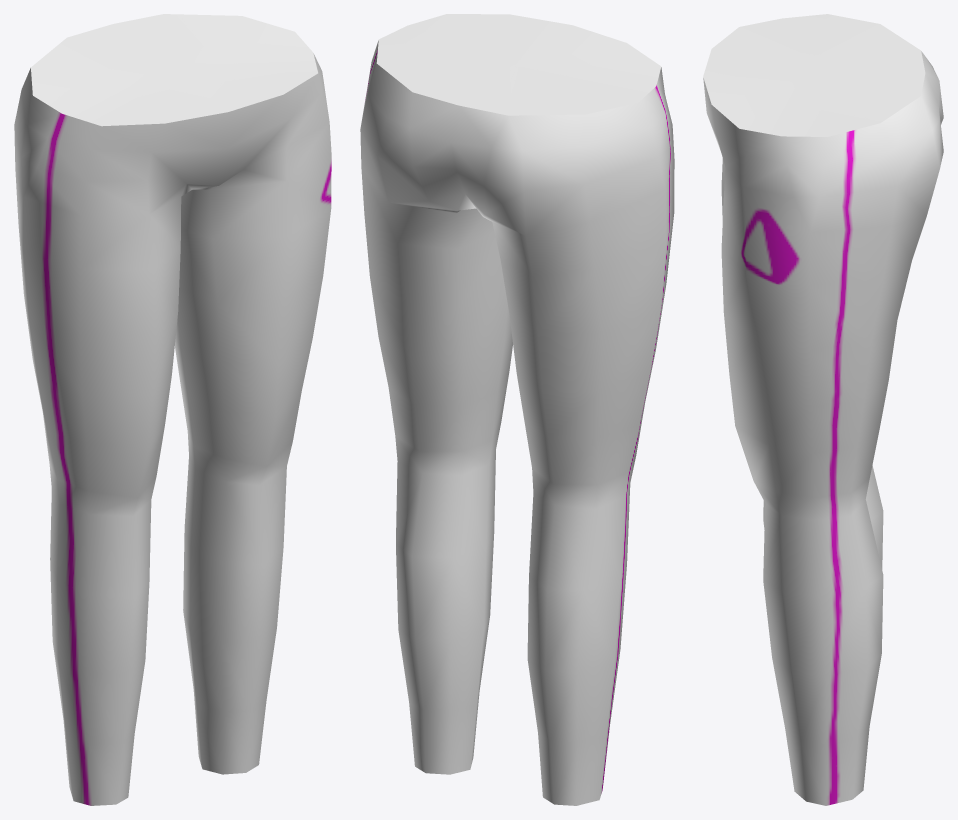
The model's file is Lengg_B.glb.
3 renders of one model, left to right at view 1: azimuth 30°, elevation 25°; view 2: azimuth 150°, elevation 25°; view 3: azimuth 270°, elevation 25°, orthographic. The views are drawn at different scales.
Visible parts, largest first — view 1: Lengg_B; view 2: Lengg_B; view 3: Lengg_B.
Part boxes in pixels (x1,y1,x2,y2): Lengg_B: [14, 14, 331, 805]; Lengg_B: [360, 14, 674, 805]; Lengg_B: [703, 14, 943, 805].
Size of what is drawn, in the model's own units: 0.4088 by 0.9355 by 0.2955.
Materials: 1 (1 with a texture image).
